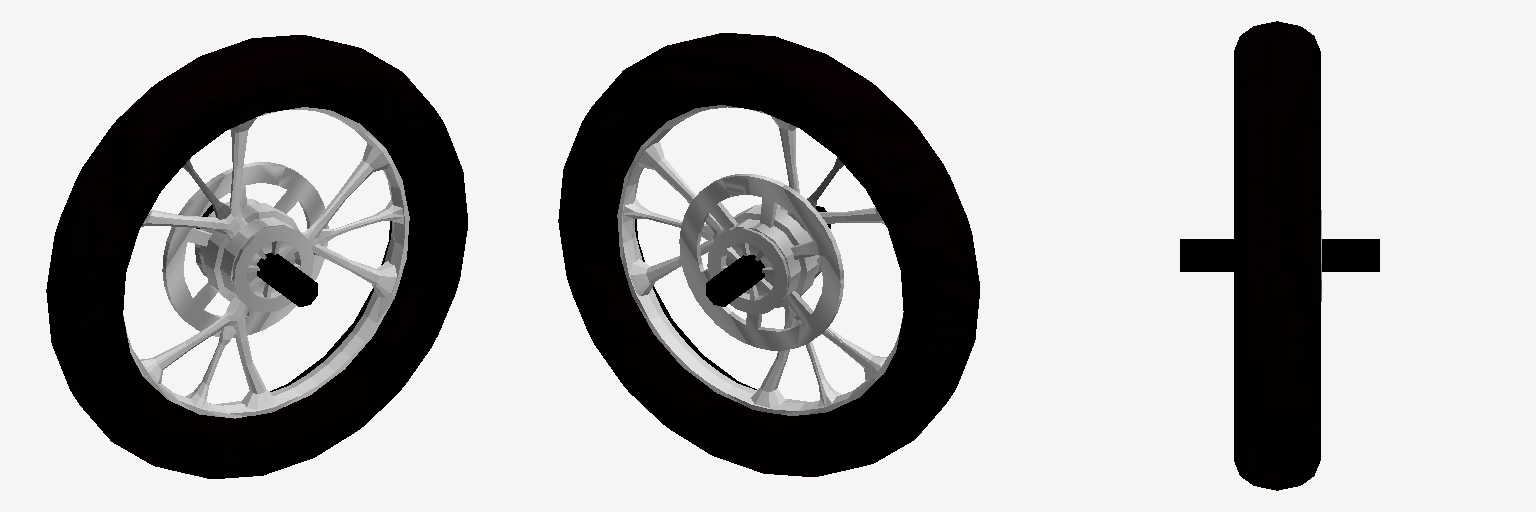
3 views of the same model, side by side, from view 1: azimuth 30°, elevation 25°; view 2: azimuth 150°, elevation 25°; view 3: azimuth 270°, elevation 25° (orthographic).
Visible parts, largest first — view 1: polySurface356; view 2: polySurface356; view 3: polySurface356.
Part boxes in pixels (x1,y1,x2,y2): polySurface356: (46, 35, 467, 478); polySurface356: (558, 33, 979, 476); polySurface356: (1180, 21, 1379, 490).
Size of the model in its own units: 1.06 by 1.06 by 0.4497.
Materials: 4 (2 with a texture image).